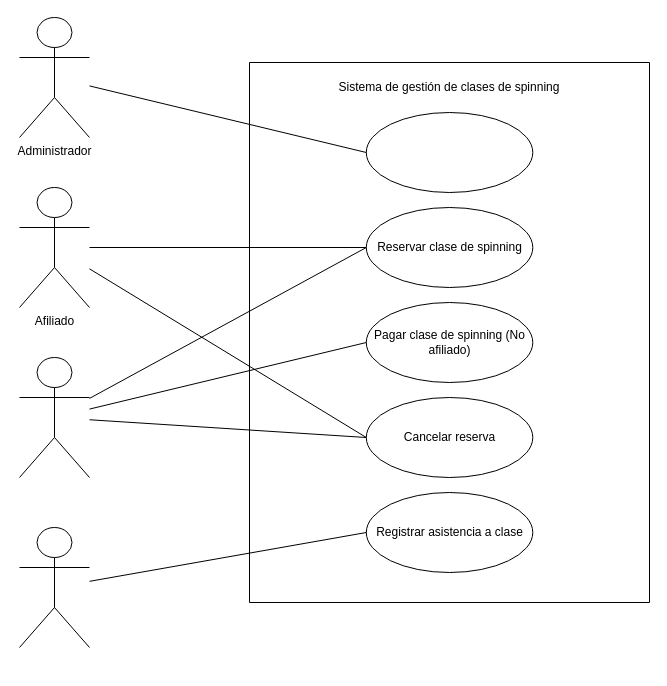
Some shapes in this 667 by 686 pixel diagram are drawn without their labels. Here are the shapes that lost their labels. From the top down, the centre of each, then its label:
the point at 449,152: Programar clase de spinning
the point at 54,417: No afiliado
the point at 54,587: Instructor
